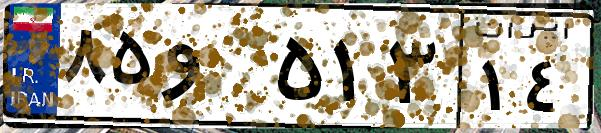1: (330, 28, 385, 110), (475, 38, 525, 113)
3: (385, 28, 445, 110)
4: (525, 38, 570, 115)
5: (270, 28, 330, 110), (110, 28, 158, 98)
8: (57, 26, 110, 100)
و: (158, 20, 270, 120)
